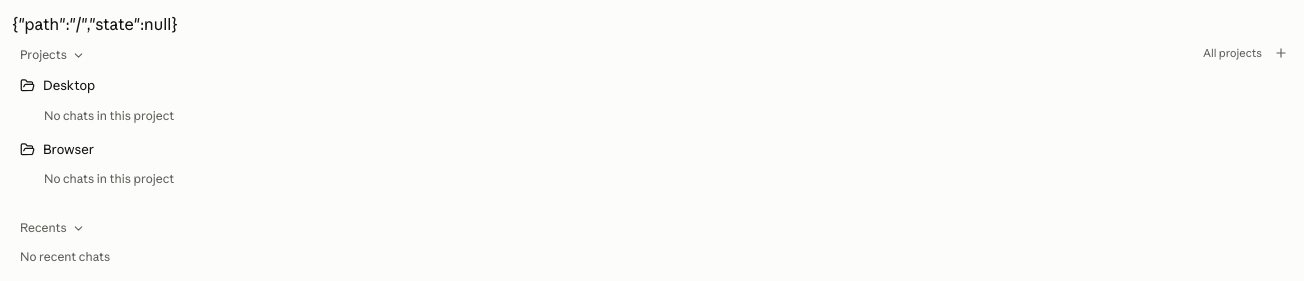
Test: project sidebar › keeps empty Recents visible in chat
expect the button "Desktop" is shown: met, box [20,70,1237,102]
expect the text "No recent chats" is shown: met, box [20,249,110,264]
Click the button "Recents": (52, 226) [12,209,93,243]
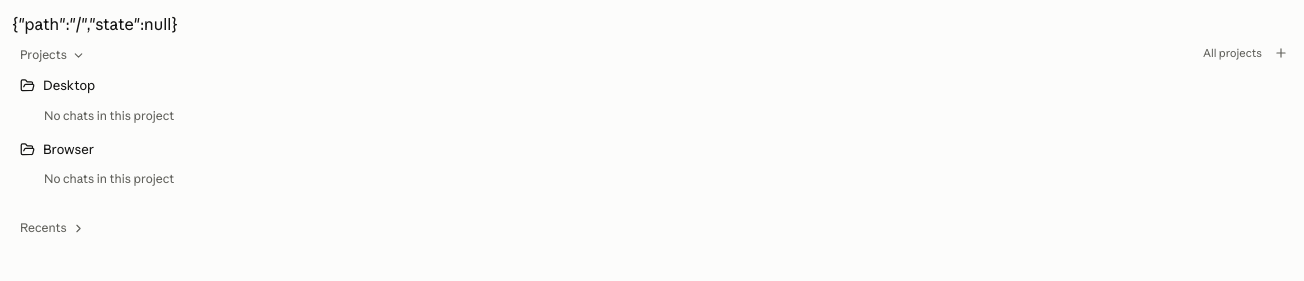
expect the text "No recent chats" is gone: met
